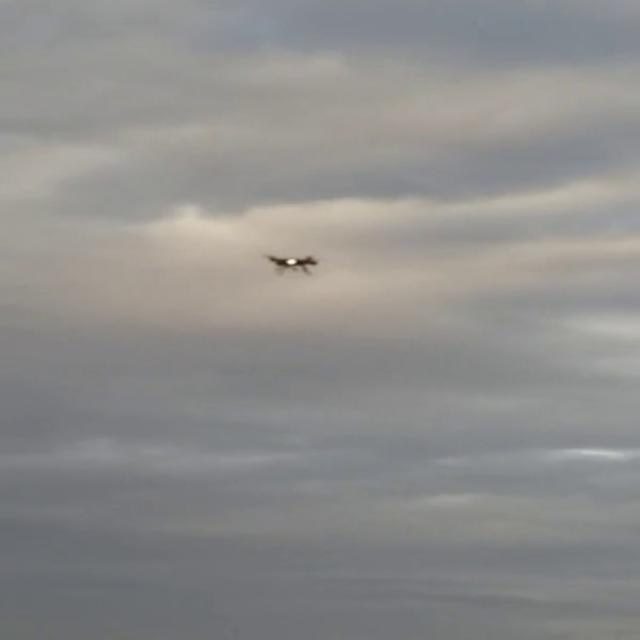drone: (260, 250, 323, 277)
